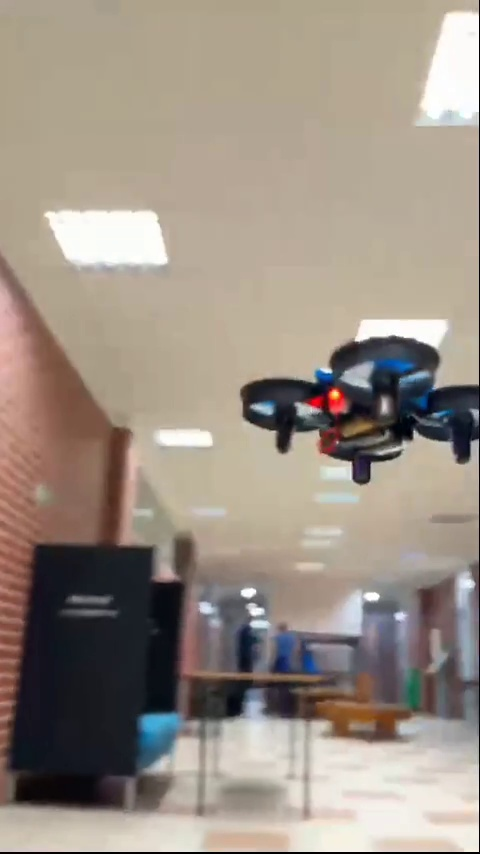drone: (243, 333, 480, 477)
no vest: (265, 620, 294, 675), (234, 621, 259, 677)
